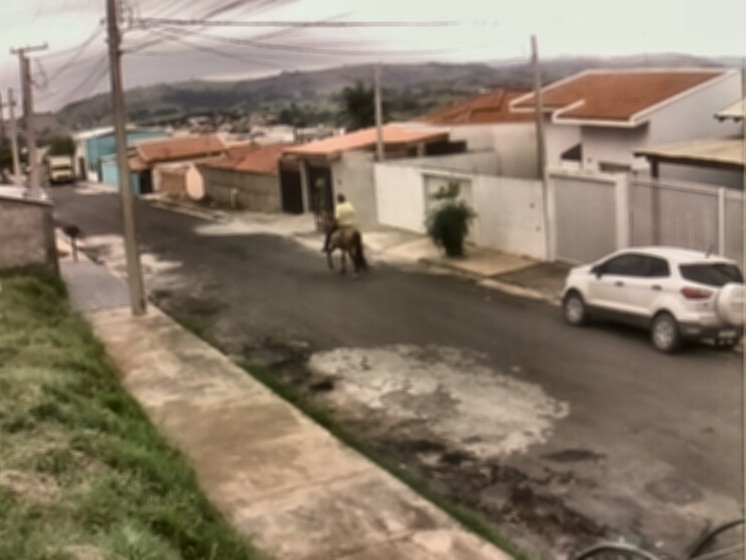person: (319, 191, 356, 257)
